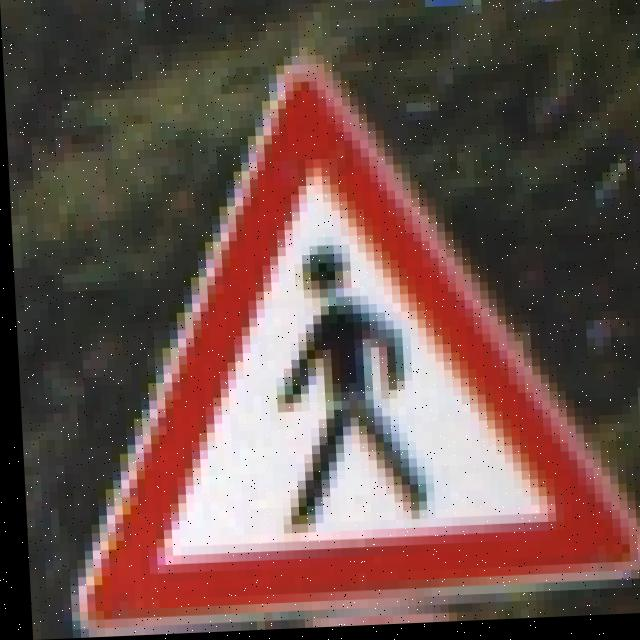crosswalk: (118, 112, 624, 601)
